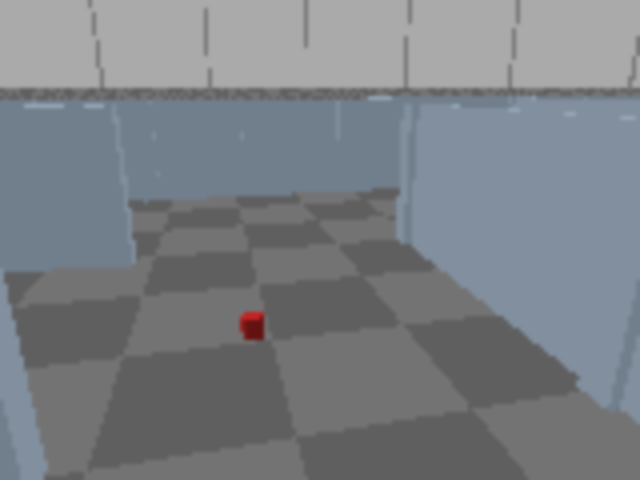puck: (242, 311, 264, 341)
